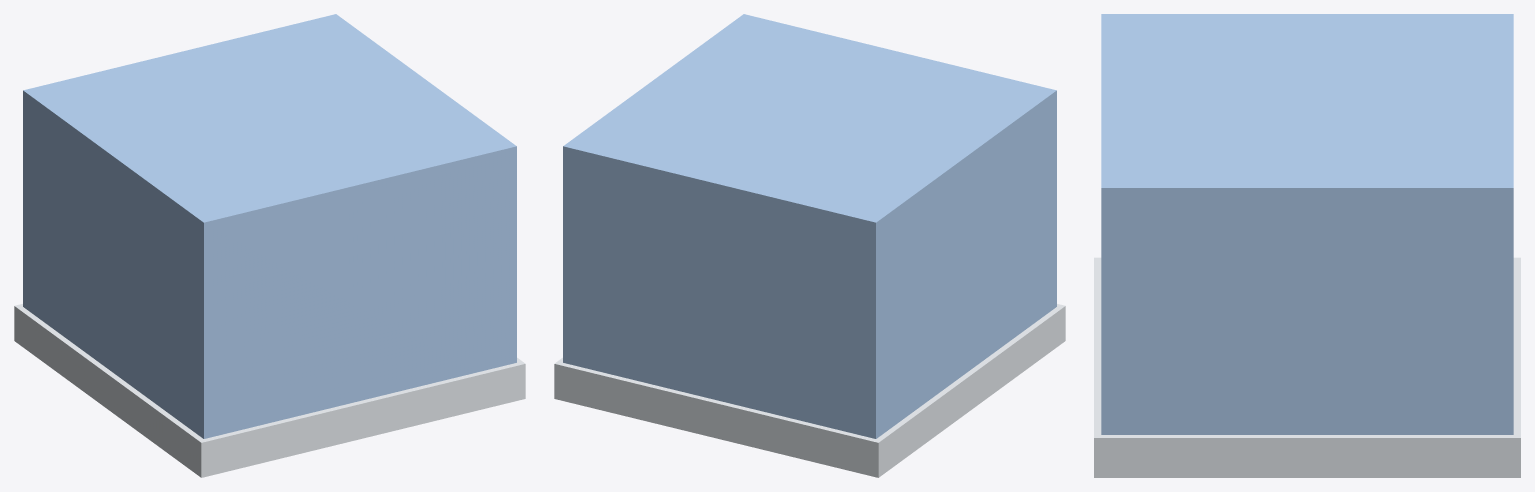
The model's file is patinador_manga_inf.glb.
The picture shows the model from 3 angles, left to right: view 1: azimuth 30°, elevation 25°; view 2: azimuth 150°, elevation 25°; view 3: azimuth 270°, elevation 25°; orthographic projection. The views are drawn at different scales.
Visible parts, largest first — view 1: patinador_manga_inf; view 2: patinador_manga_inf; view 3: patinador_manga_inf.
Boxes of the visible parts, x1,y1,x2,y2 form: patinador_manga_inf: (14, 14, 525, 477); patinador_manga_inf: (554, 14, 1065, 477); patinador_manga_inf: (1094, 14, 1520, 477).
Bounding box in the file's own units: 0.29 × 0.215 × 0.29.
